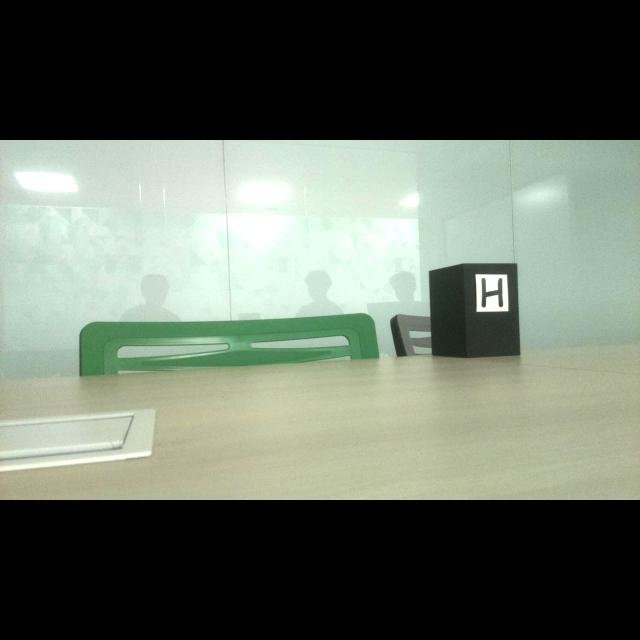H: (481, 278, 503, 308)
